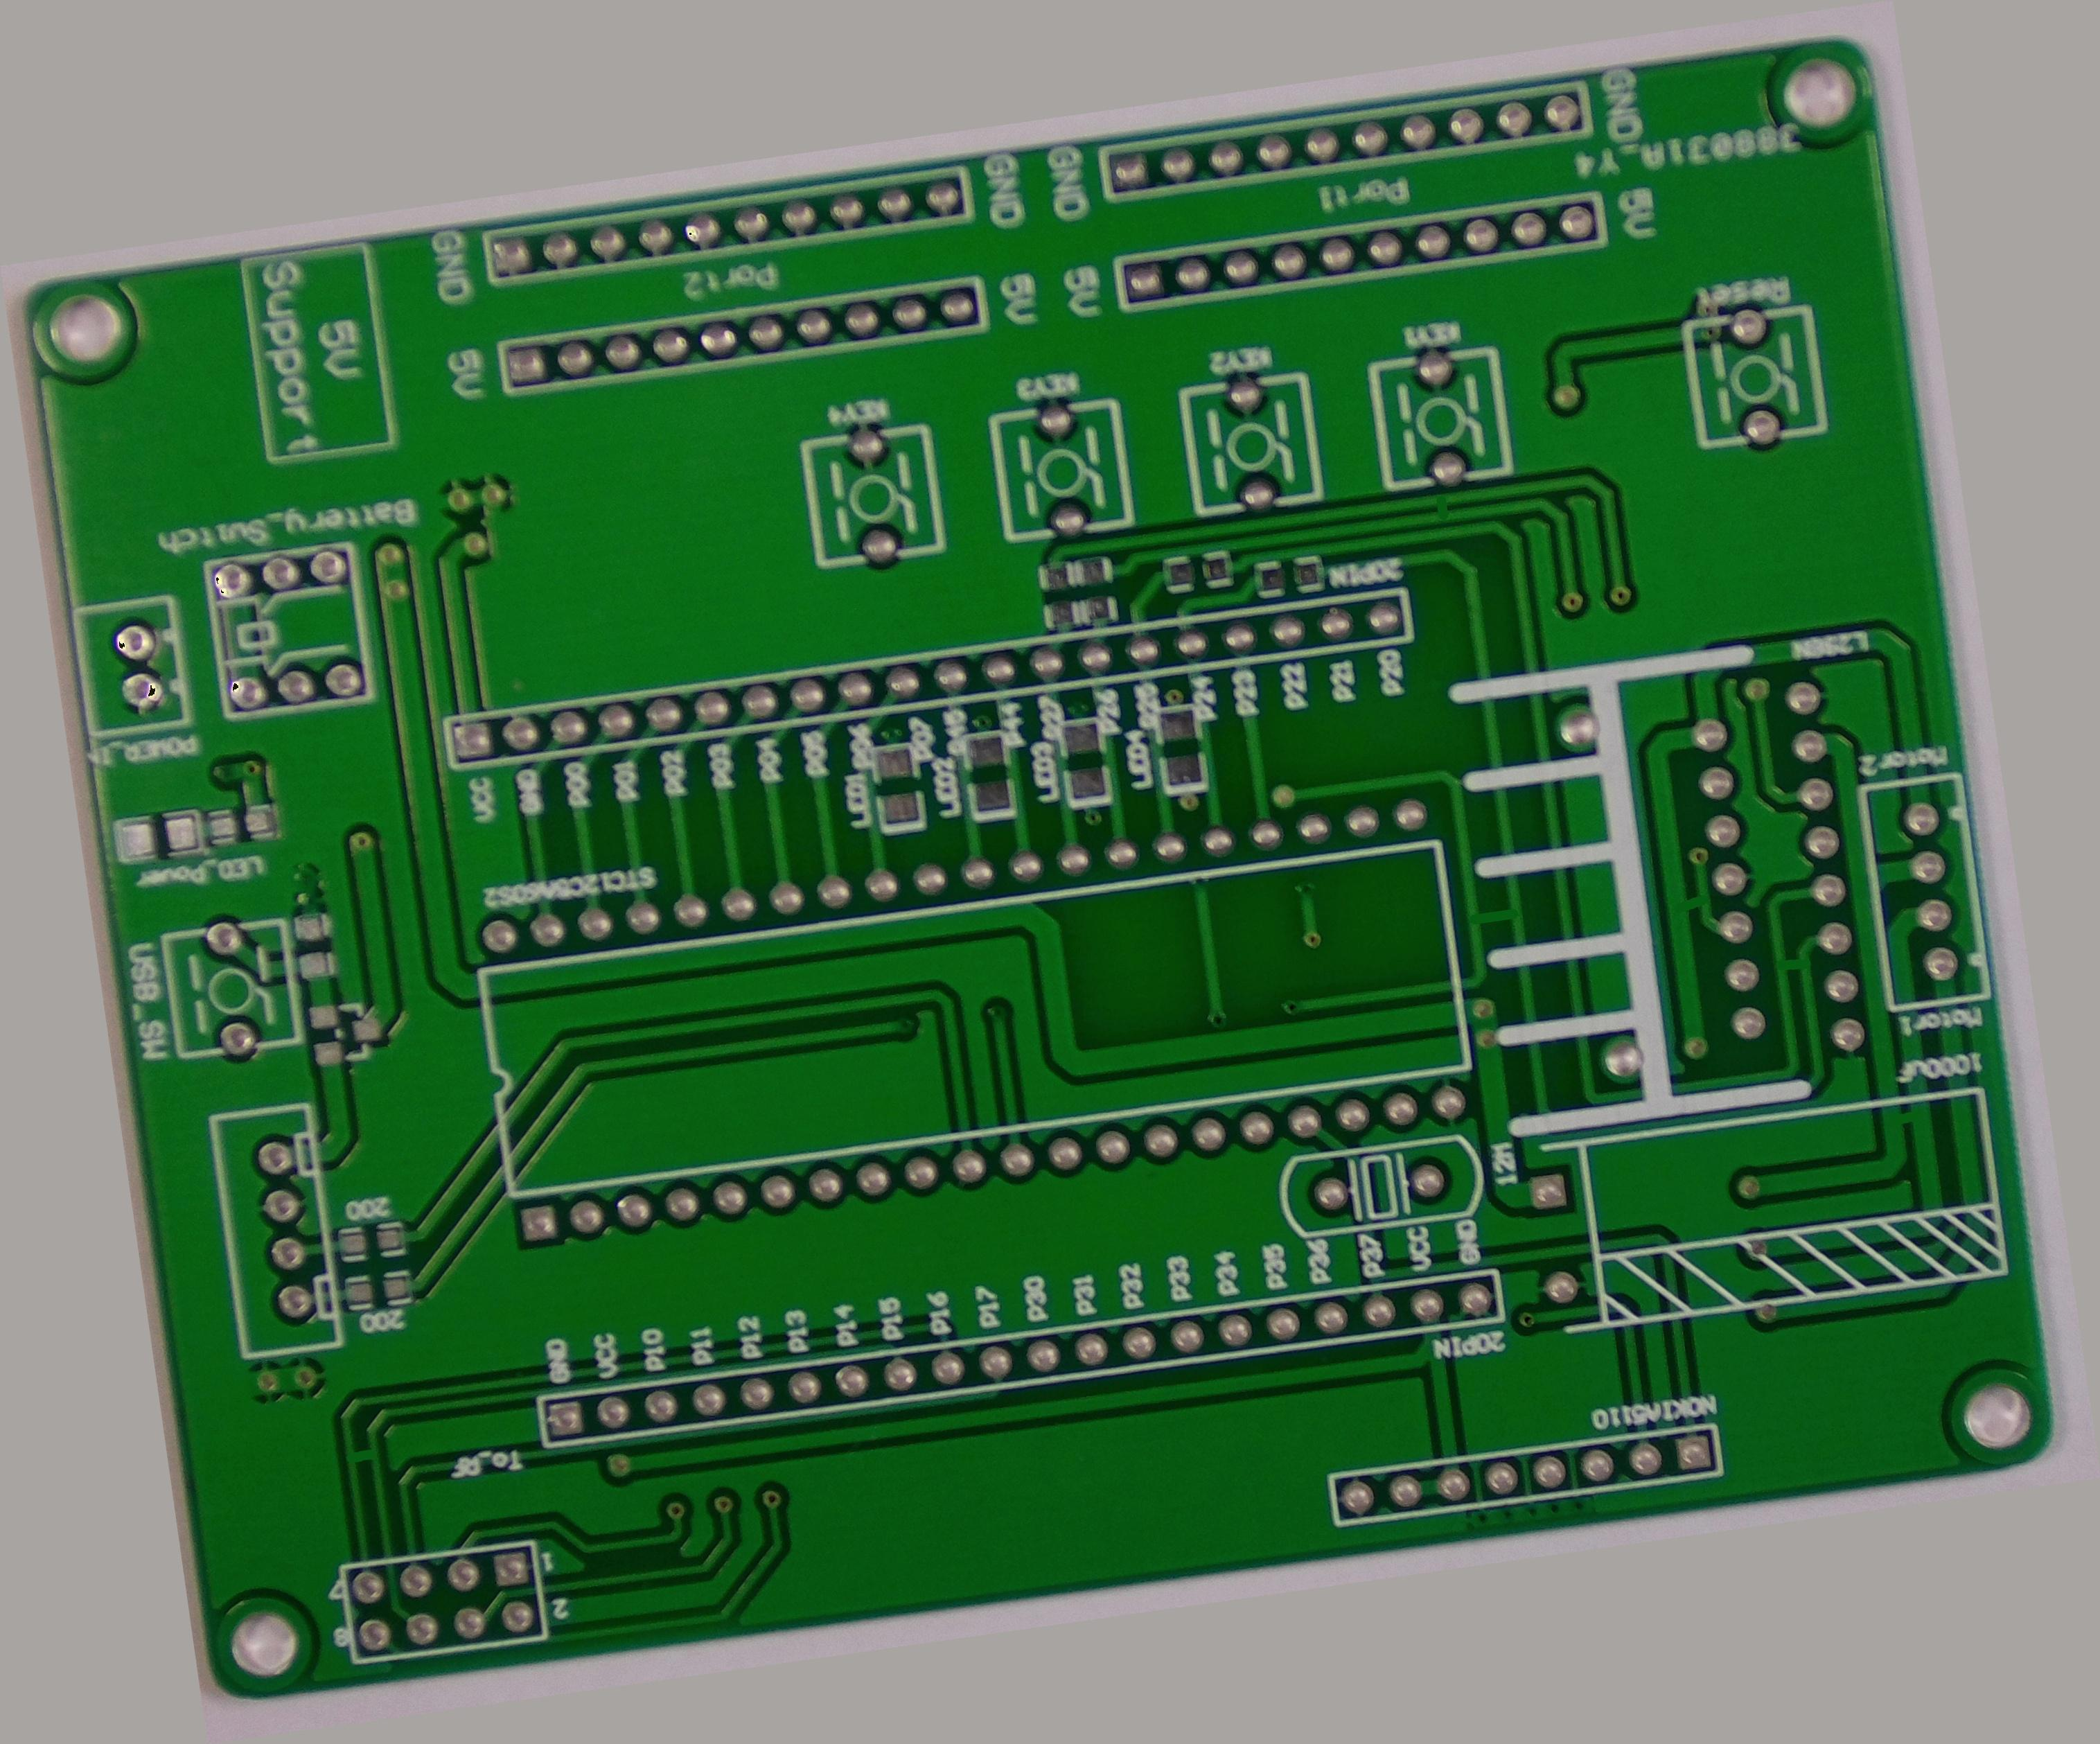short: (1458, 891, 1530, 942), (1413, 483, 1470, 532), (1660, 877, 1720, 924), (1765, 940, 1817, 989), (335, 1430, 387, 1477)
